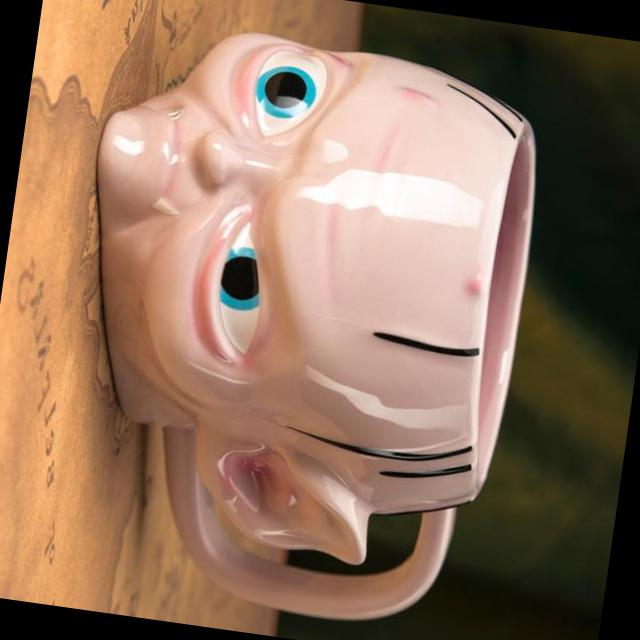Coffee Mug: (35, 13, 555, 640)
